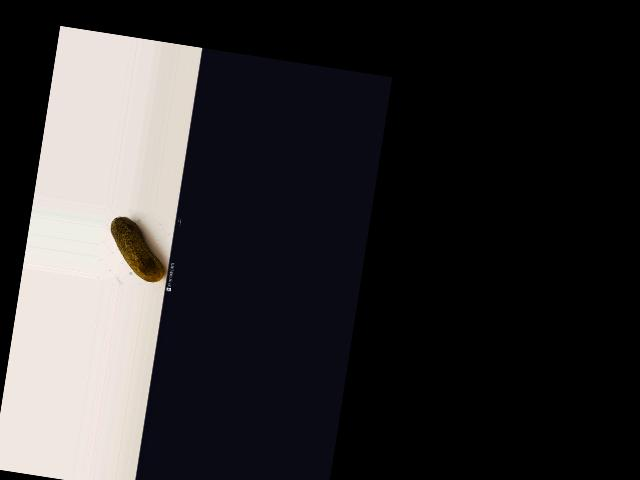cucumber: (103, 214, 172, 284)
